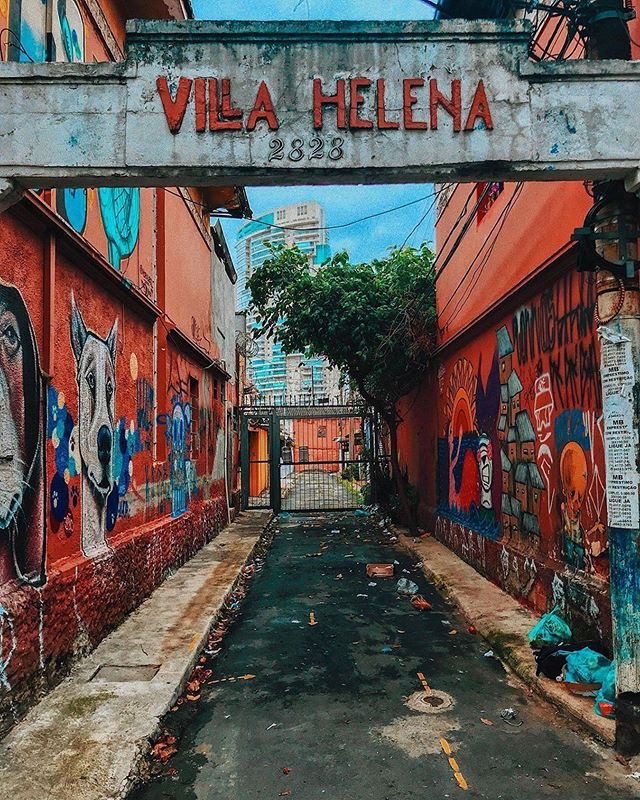building: (16, 28, 231, 705), (442, 38, 633, 700), (234, 196, 366, 400)
street: (84, 485, 620, 800)
tree: (262, 250, 437, 407)
